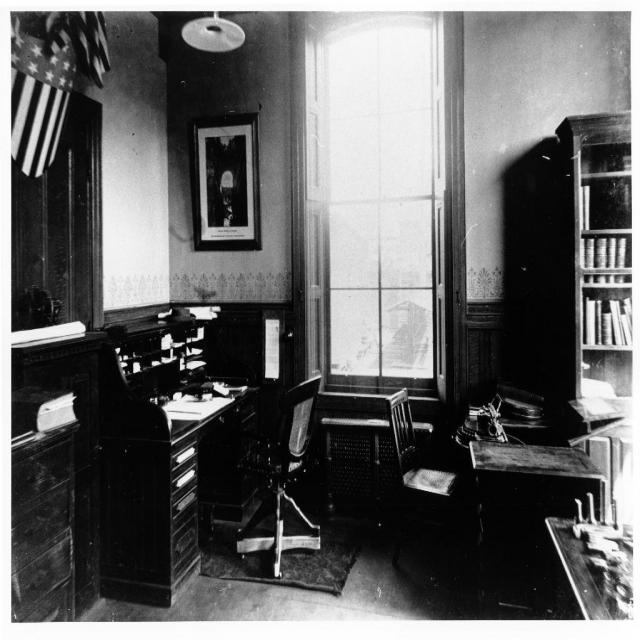chair: (236, 370, 323, 578)
desk: (92, 367, 293, 607)
